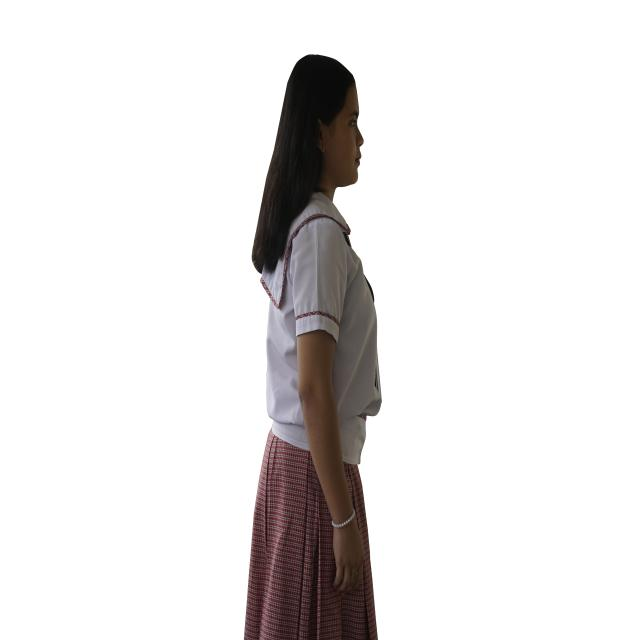pologirl: (261, 194, 382, 464)
skirt: (244, 432, 377, 640)
